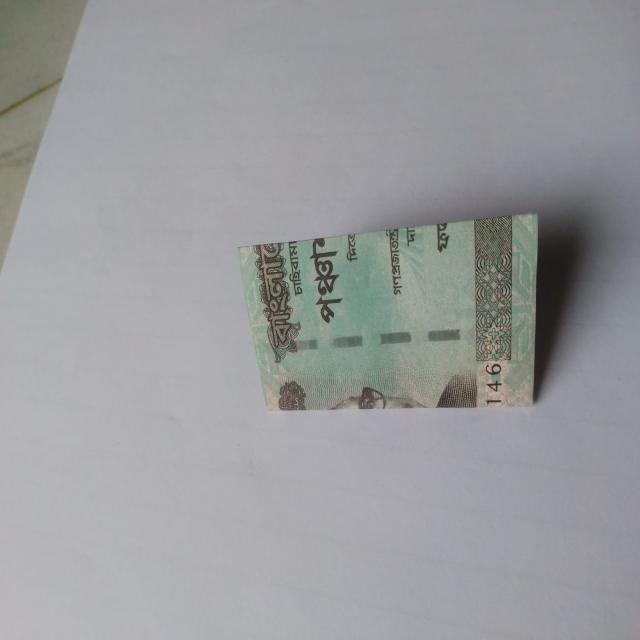Taka: (232, 217, 544, 419)
